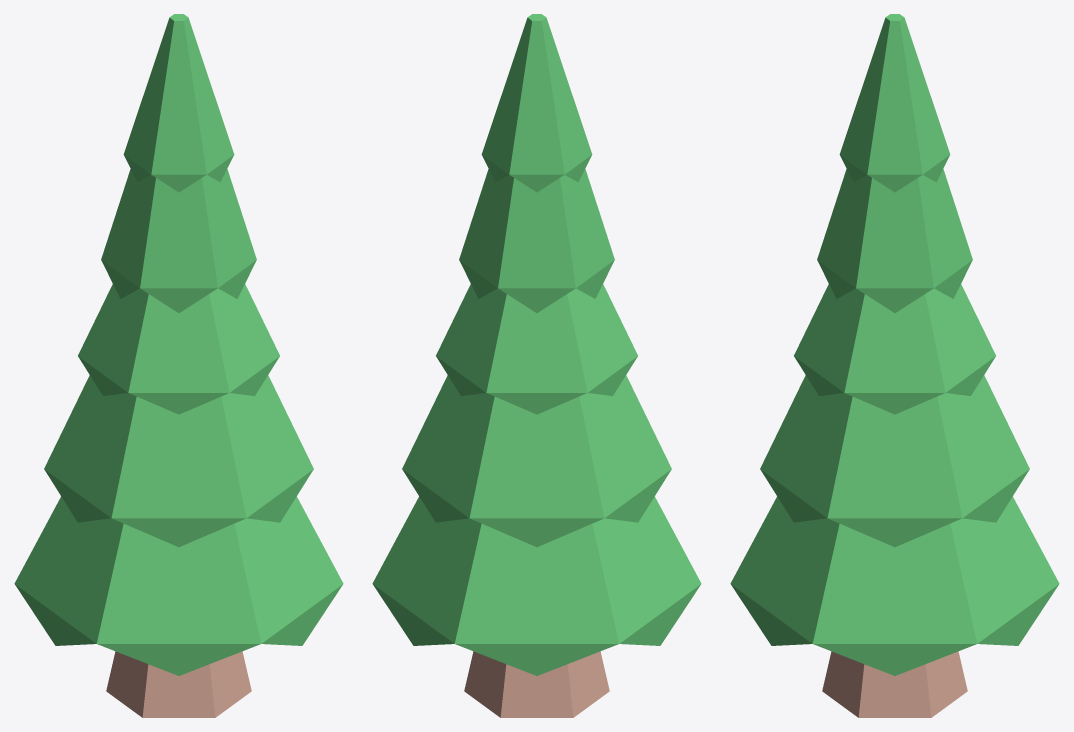
The model's file is n_tree_pineRoundC.glb.
3 renders of one model, left to right at view 1: azimuth 30°, elevation 25°; view 2: azimuth 150°, elevation 25°; view 3: azimuth 270°, elevation 25°, orthographic.
Parts seen in each view (by area): view 1: tree_pineRoundC; view 2: tree_pineRoundC; view 3: tree_pineRoundC.
Boxes of the visible parts, bbox=[...] form: tree_pineRoundC: bbox=[14, 14, 343, 717]; tree_pineRoundC: bbox=[372, 14, 701, 717]; tree_pineRoundC: bbox=[730, 14, 1059, 717].
Size of the model in its own units: 2.3 by 6 by 2.66.
